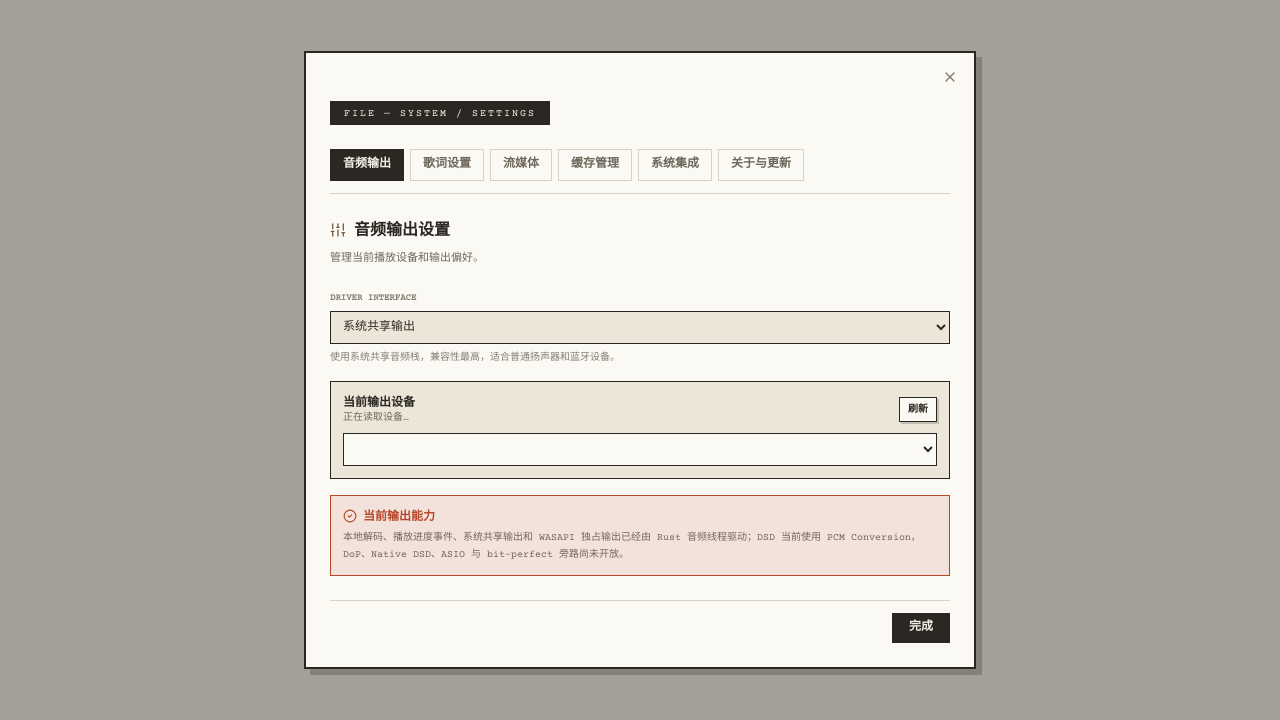
Test: 设置页（issues-2） › 后端没有返回缓存状态时不崩溃：缓存页停在读取中，其他标签页照常可用
This screenshot has width=1280, height=720.
Click the tab "缓存管理" at (595, 165), box 558,149 -> 632,181
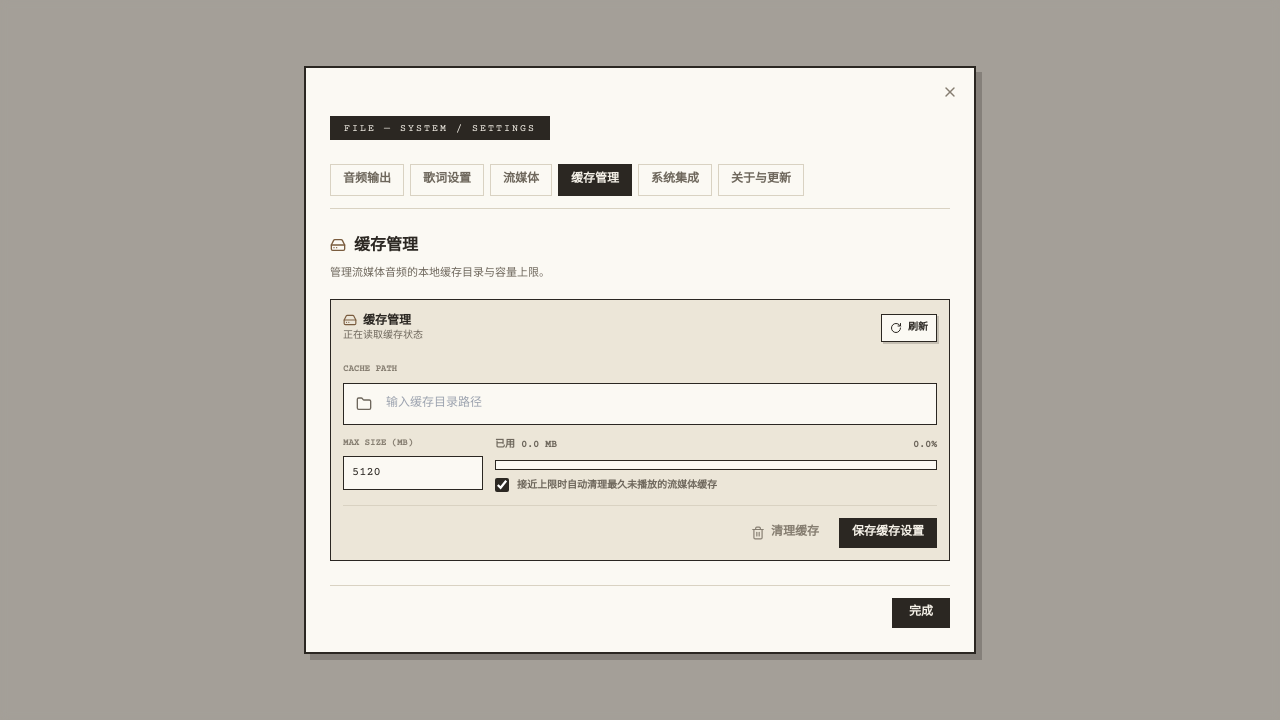
Expected: the button "完成" is shown, 892,598 -> 950,628
Now the text "正在读取缓存状态" is shown, box 343,328 -> 423,343
Click the tab "流媒体" at (521, 180), box 490,164 -> 552,196
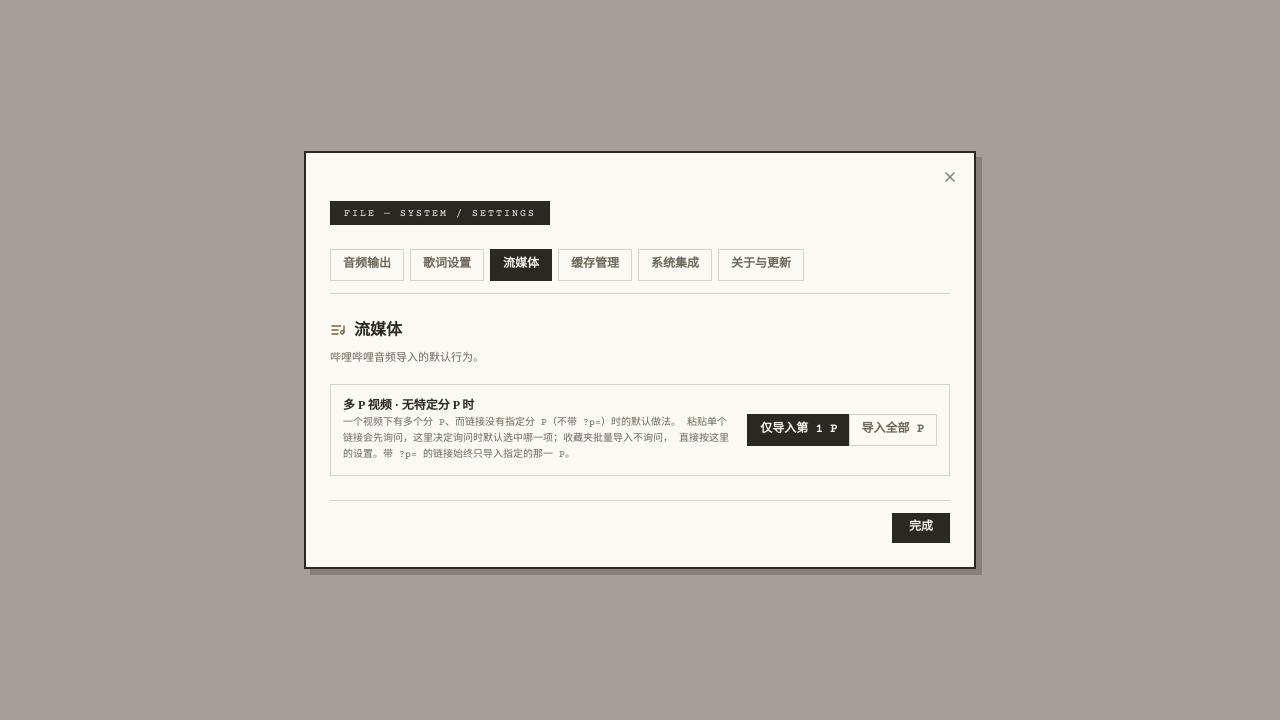
Now the element named "无特定分 P 时的默认导入范围" is shown, box 747,414 -> 937,446
